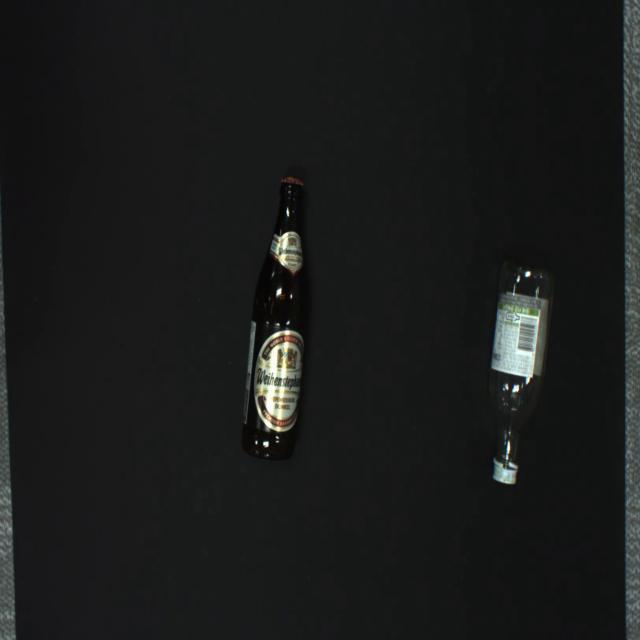beer-bottle: (241, 177, 306, 460)
soju-bottle: (488, 263, 555, 484)
